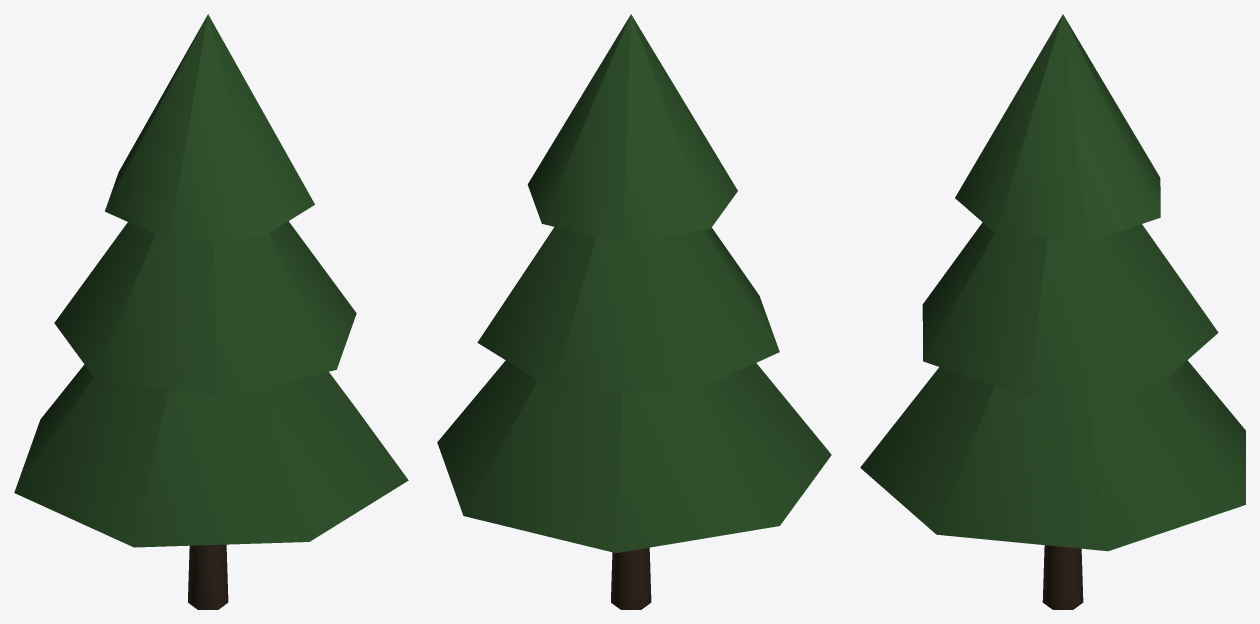
Rendered from pinheiro.glb.
3 views of the same model, side by side, from view 1: azimuth 30°, elevation 25°; view 2: azimuth 150°, elevation 25°; view 3: azimuth 270°, elevation 25° (orthographic).
Visible parts, largest first — view 1: pinheiro_liso; view 2: pinheiro_liso; view 3: pinheiro_liso.
Part boxes in pixels (x1,y1,x2,y2): pinheiro_liso: [14, 14, 408, 609]; pinheiro_liso: [437, 14, 831, 609]; pinheiro_liso: [860, 14, 1245, 609].
Size of the model in its own units: 6.43 by 10.56 by 6.27.
